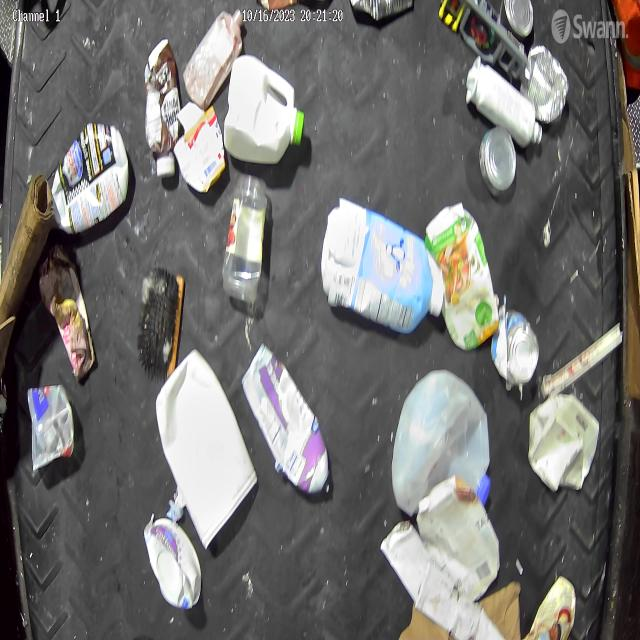can: (242, 339, 332, 498), (518, 43, 570, 123), (491, 307, 541, 387), (478, 128, 518, 198), (350, 0, 414, 23), (500, 0, 535, 41)
milk_jug: (391, 368, 492, 515), (223, 54, 305, 168)
non_white_jug: (322, 196, 446, 336), (51, 122, 130, 235)
